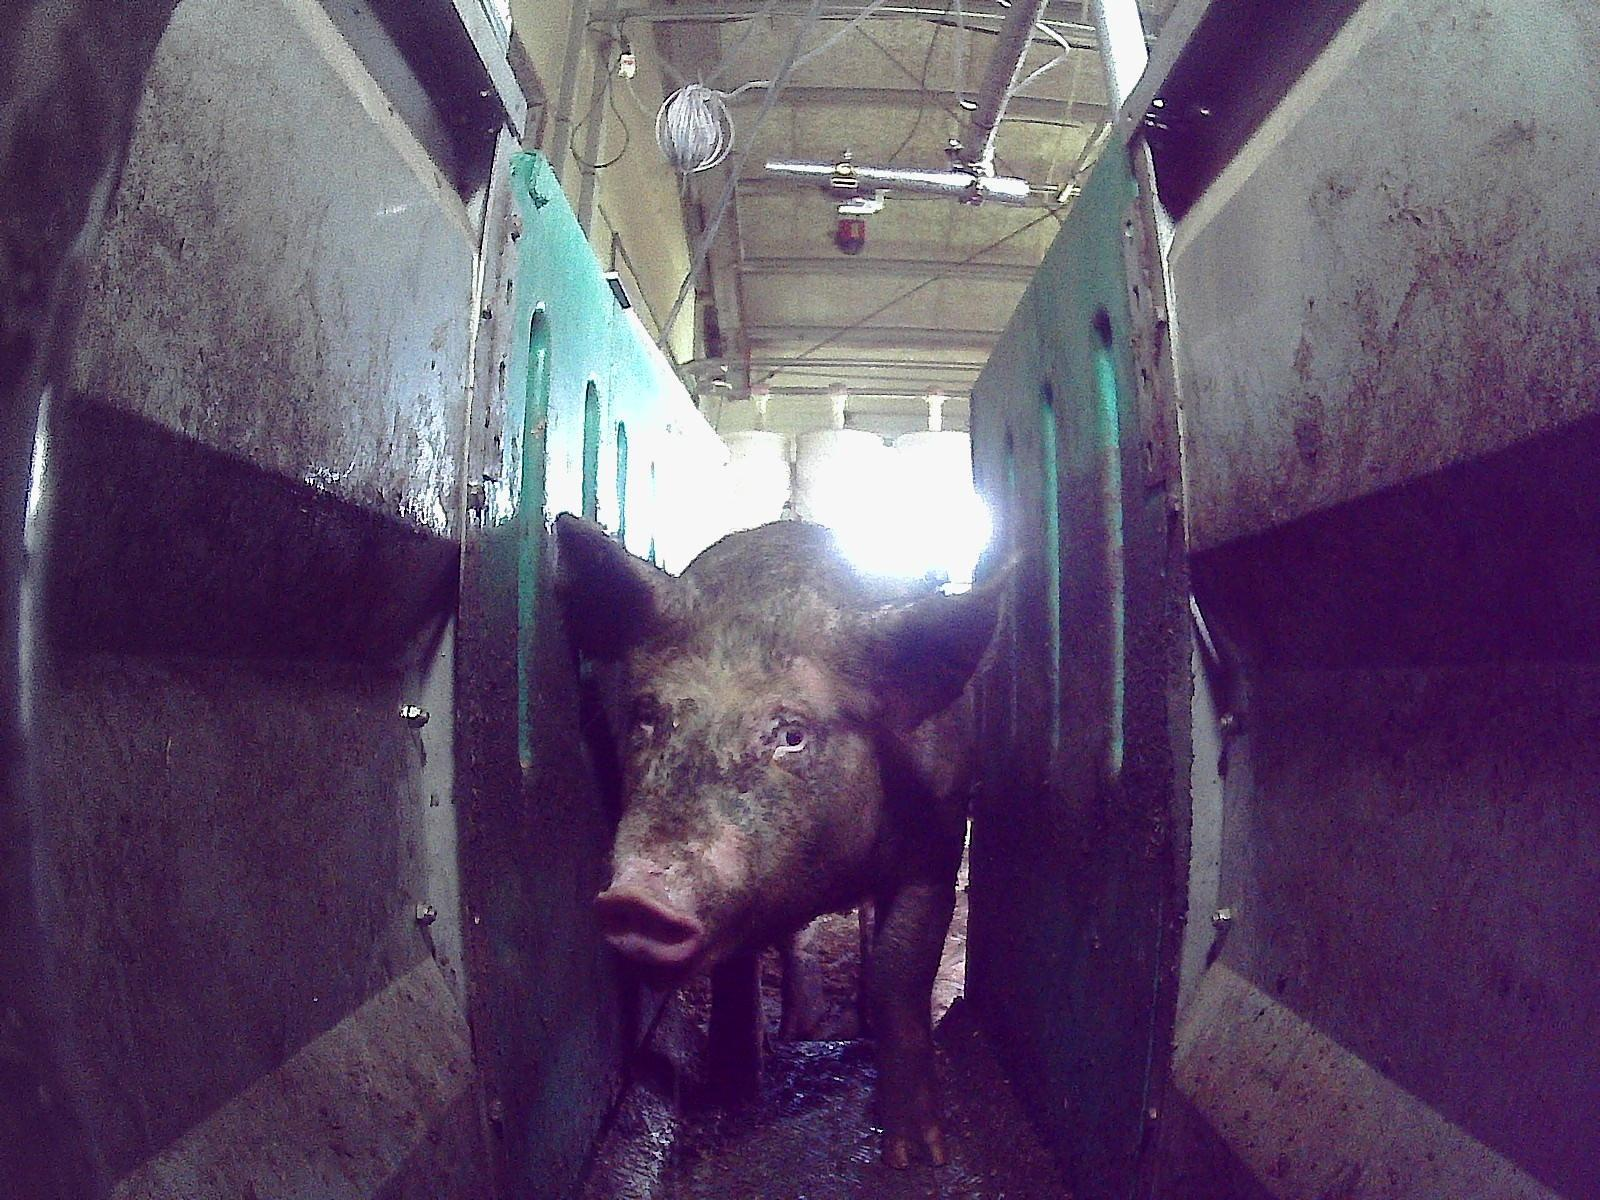Face: (592, 597, 897, 966)
